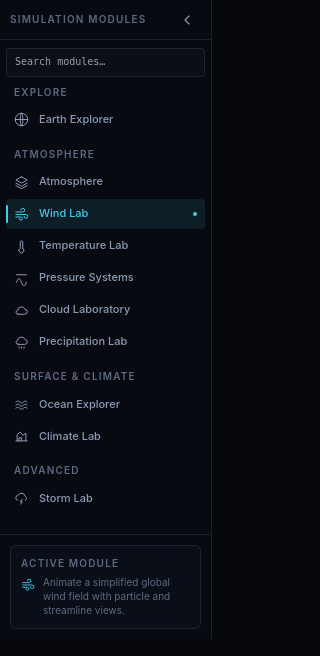
it: LeftNav module search › filters navigation modules by label
Type "storm" into the search field labelled "Search modules" at {"x": 106, "y": 62}, box [6,48,205,76]
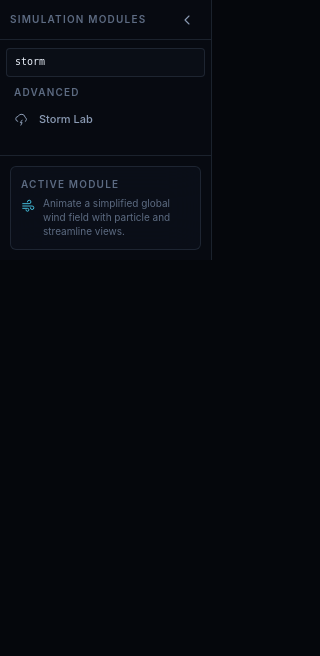
Expected: the text "Storm Lab" is shown, [39,112,93,128]
Expected: the button "Wind Lab" is gone
